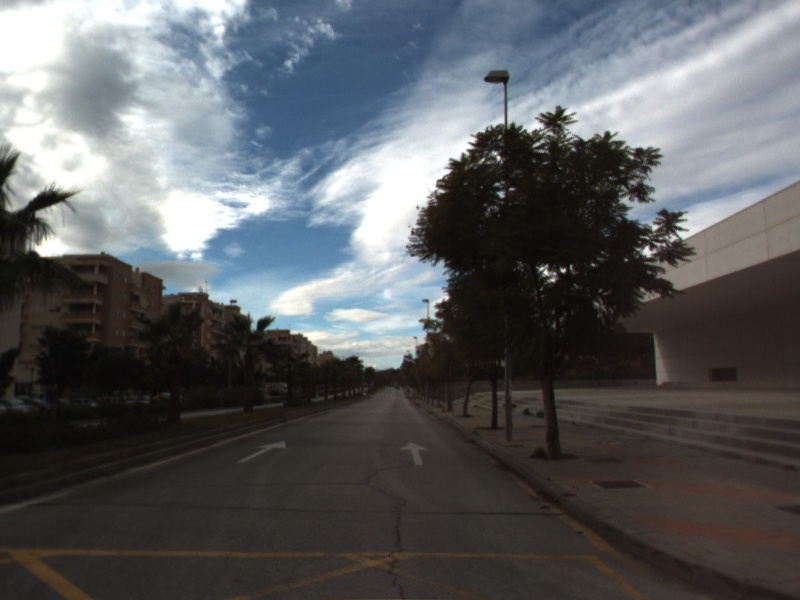STRAIGHT: (235, 438, 288, 464), (398, 440, 431, 467)
